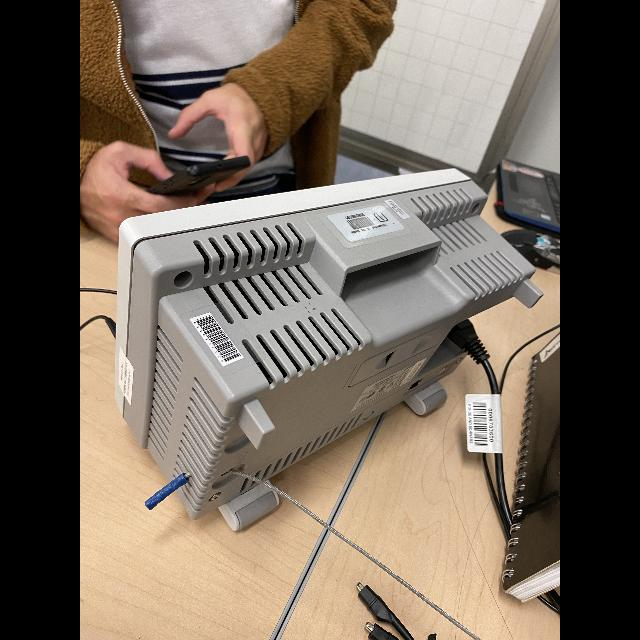Digital-Oscilloscope: (114, 169, 543, 530)
